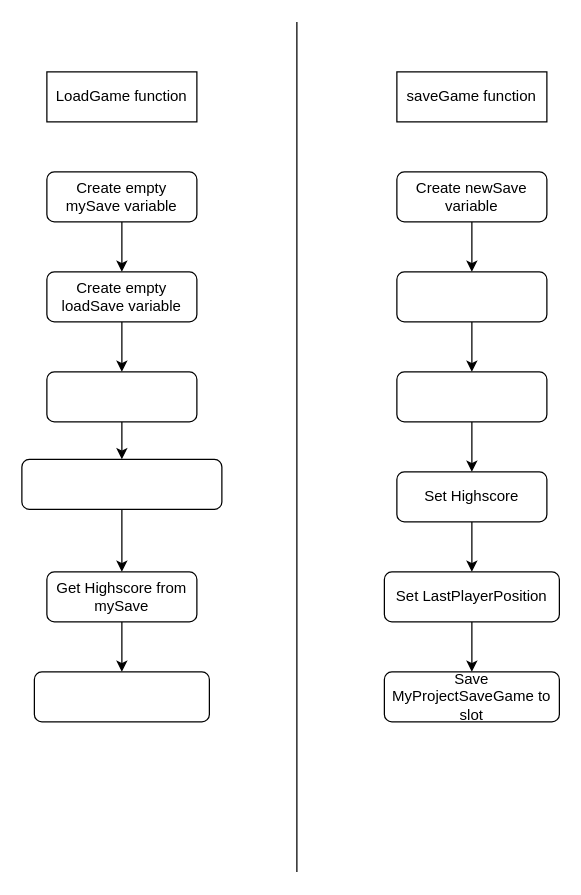
Some shapes in this 581 by 895 pixel diagram are drawn without their labels. The shapes that lost their labels are listed below. From the top down, each one's centre as x and y in pixels, then its label:
pixel 471 296: Cast newSave to mySave
pixel 121 396: Load the game from slot into loadSave
pixel 471 396: Check validity of mySave
pixel 121 483: cast loadSave to mySave
pixel 121 696: Get LastPlayerLocation from mySave
